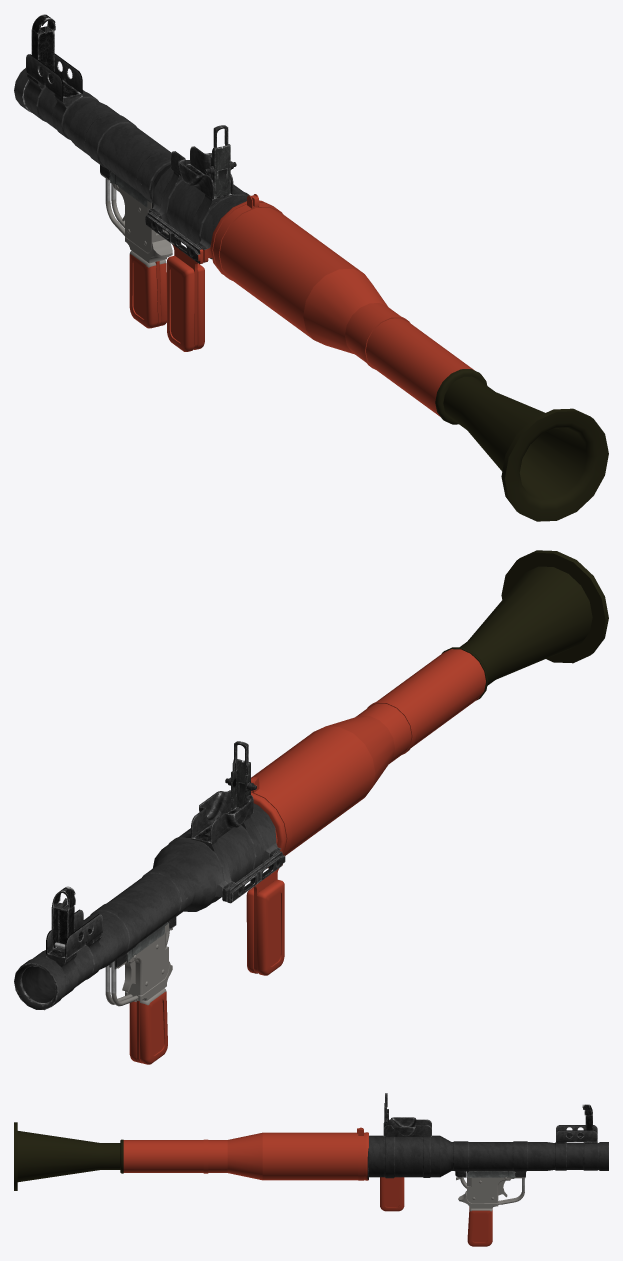
The model's file is RPG-7_Launcher.gltf.
3 renders of one model, top to bottom at view 1: azimuth 30°, elevation 25°; view 2: azimuth 150°, elevation 25°; view 3: azimuth 270°, elevation 25°, orthographic. The views are drawn at different scales.
Parts seen in each view (by area): view 1: rpg7; view 2: rpg7; view 3: rpg7.
Part boxes in pixels (bbox=[...]): rpg7: bbox=[14, 14, 608, 521]; rpg7: bbox=[14, 550, 608, 1064]; rpg7: bbox=[14, 1093, 608, 1246].
Bounding box in the file's own units: 0.1066 × 0.2523 × 0.9225.
4 materials, 1 textured.
